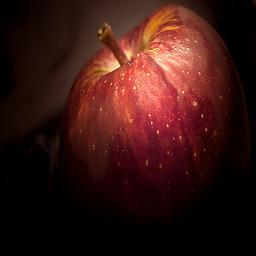apple: (49, 8, 252, 243)
